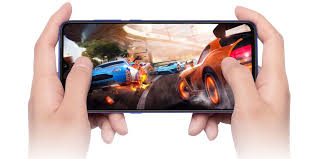Smart Phone: (53, 15, 265, 118)
